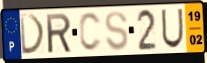2: (136, 8, 158, 52)
C: (78, 11, 103, 53)
D: (19, 14, 47, 57)
R: (44, 12, 73, 55)
S: (103, 10, 130, 53)
U: (160, 8, 185, 50)
